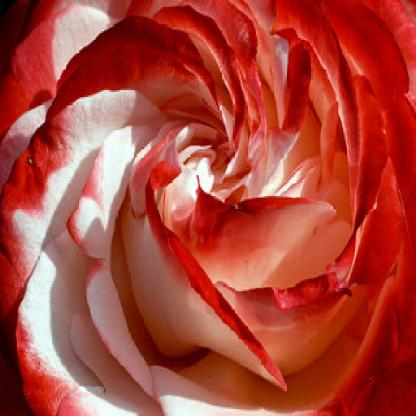Rose-Mawar: (1, 3, 416, 414)
